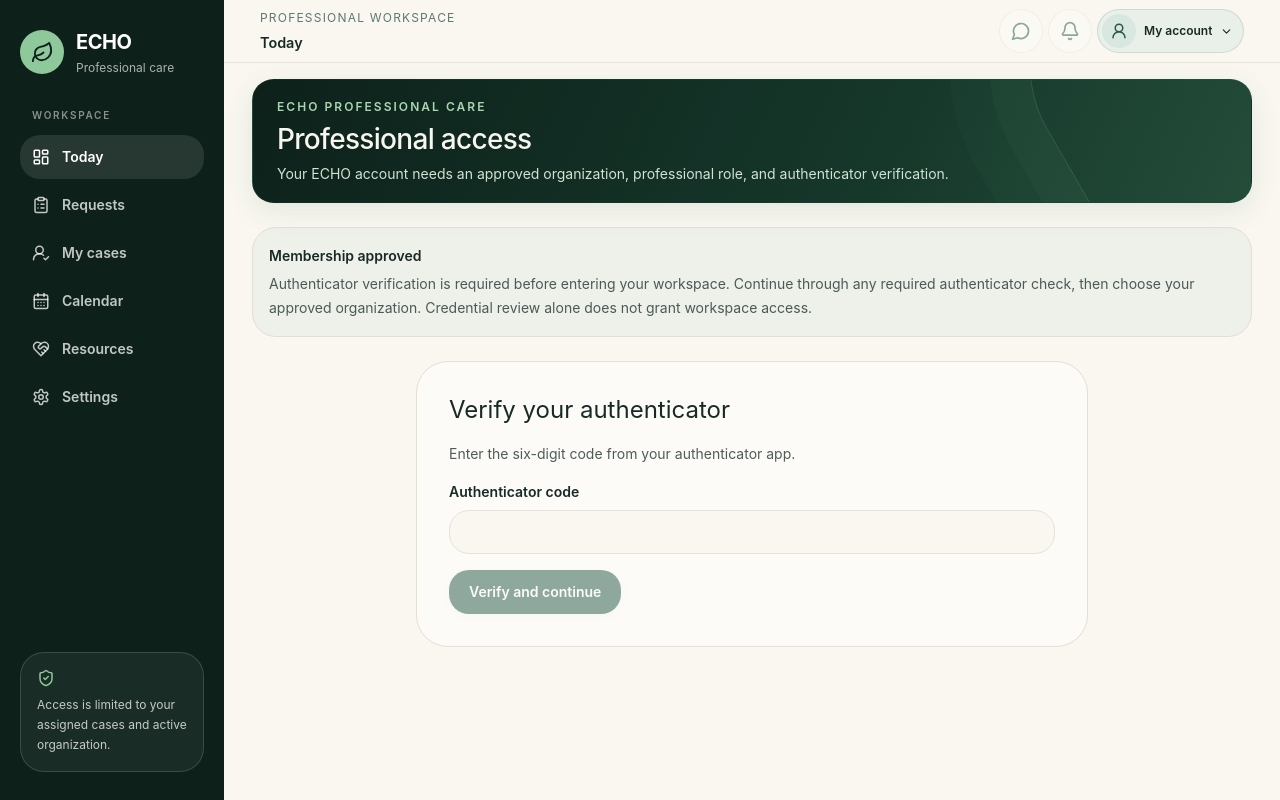
Test: professional auth flow › checks current approval again after successful MFA (approved=false)
This screenshot has width=1280, height=800.
Type "123456" into the field labelled "Authenticator code".
click(752, 532); type("123456")  # box [449,510,1055,554]
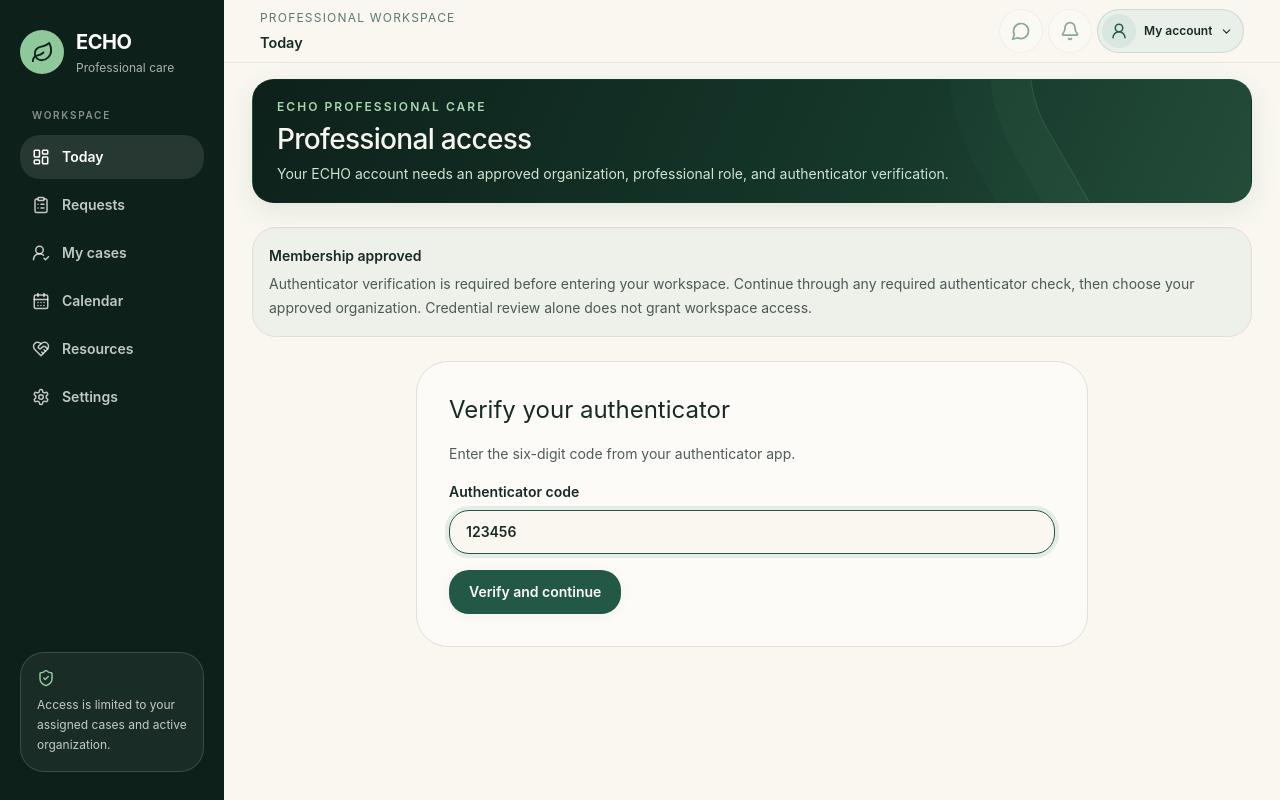
Click the button "Verify and continue".
click(535, 592)  # box [449,570,621,614]
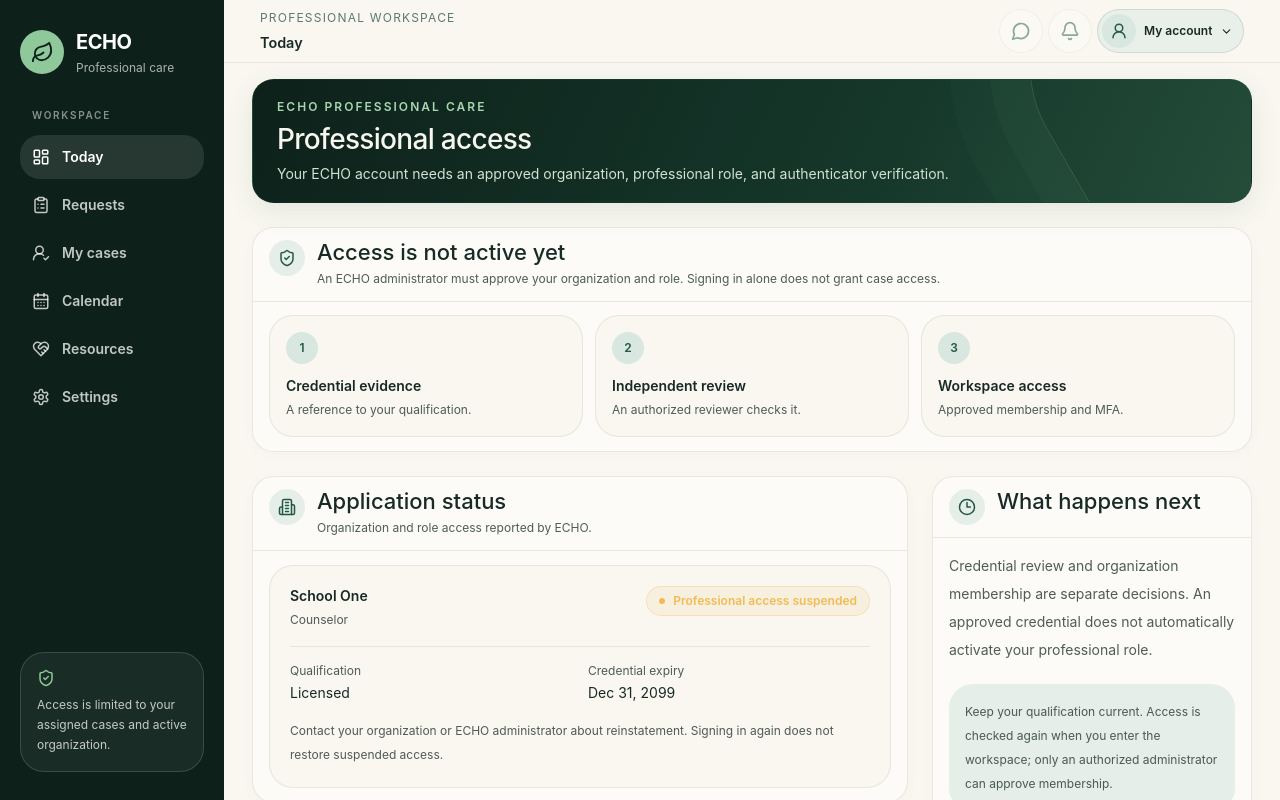
Check: the text "Professional access suspended" is shown, box [646,586,870,616]
